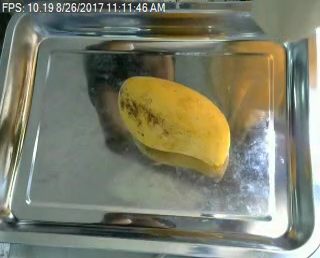Mango: (114, 71, 234, 173)
